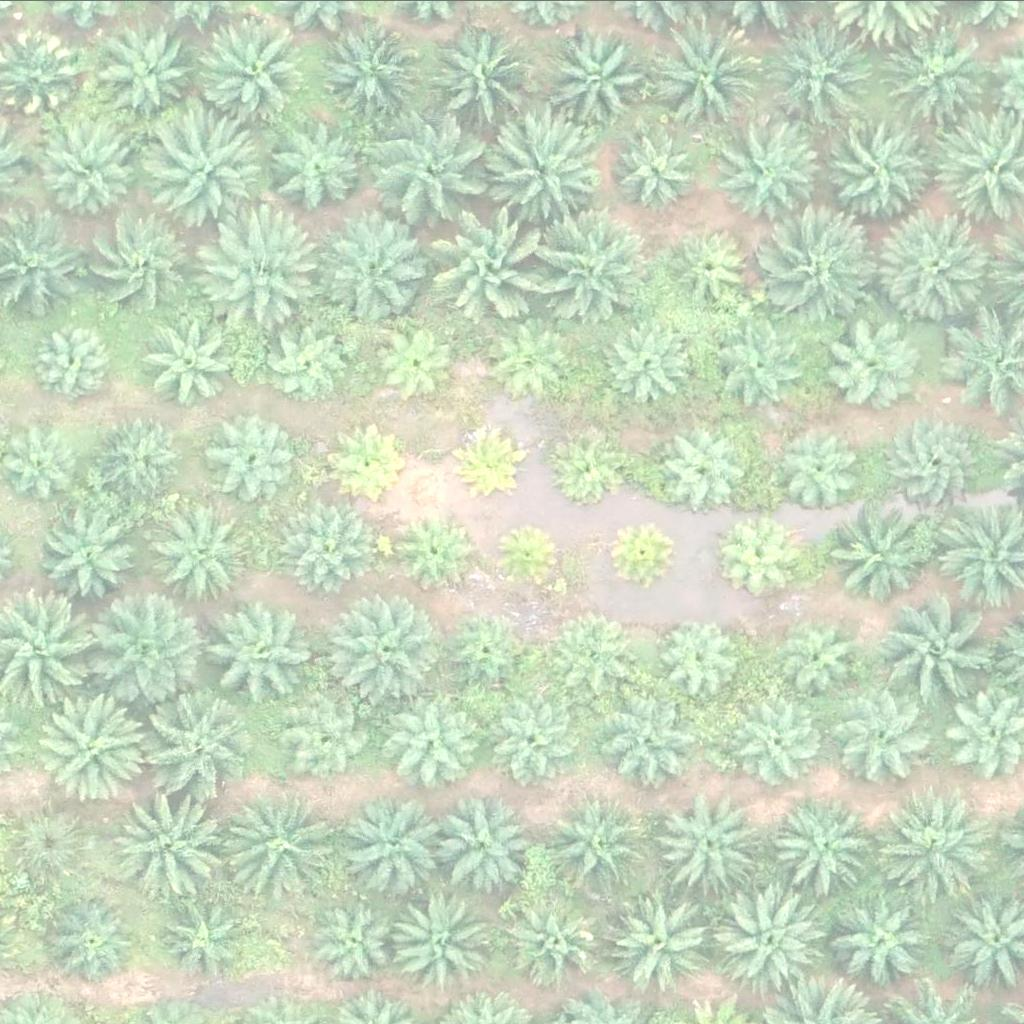Kelapa_Sawit: (432, 23, 546, 136), (117, 789, 231, 902), (651, 22, 764, 135), (763, 18, 876, 131), (818, 111, 931, 224), (879, 214, 992, 327), (776, 791, 889, 904), (885, 790, 998, 903), (378, 106, 491, 219), (536, 207, 649, 320), (94, 594, 207, 707), (204, 593, 317, 706), (327, 592, 440, 705), (140, 683, 253, 796), (36, 687, 149, 800), (231, 793, 344, 906), (155, 108, 269, 220), (440, 202, 554, 314), (719, 119, 832, 231), (770, 217, 883, 329), (881, 600, 994, 712), (720, 880, 833, 992), (201, 11, 314, 123), (483, 112, 596, 224), (314, 215, 427, 327), (199, 215, 312, 327), (86, 211, 199, 323), (884, 27, 985, 127), (830, 506, 931, 606), (835, 682, 936, 782), (655, 793, 756, 893), (835, 886, 936, 986), (548, 24, 649, 124), (99, 18, 200, 118), (260, 119, 361, 219), (144, 308, 245, 408), (148, 504, 249, 604), (347, 797, 448, 897), (430, 792, 531, 892), (603, 892, 704, 992), (547, 793, 648, 893), (599, 686, 700, 786), (395, 890, 496, 990), (820, 312, 920, 412), (888, 414, 988, 514), (326, 23, 426, 123), (42, 124, 142, 224), (43, 505, 143, 605), (30, 318, 119, 406), (669, 224, 757, 312), (662, 429, 750, 517), (734, 703, 822, 791), (442, 607, 530, 695), (560, 607, 648, 695), (614, 124, 702, 212), (10, 804, 98, 892), (156, 899, 244, 987), (370, 321, 458, 409), (493, 316, 581, 404), (398, 697, 486, 785), (490, 696, 578, 784), (49, 894, 137, 982), (306, 894, 394, 982), (719, 325, 808, 412), (778, 428, 866, 515), (658, 612, 746, 699), (782, 615, 870, 702), (98, 414, 186, 501), (268, 319, 356, 406), (602, 318, 690, 405), (278, 504, 366, 591), (209, 417, 297, 504), (287, 692, 375, 779), (512, 900, 600, 987), (548, 435, 624, 510), (728, 518, 804, 593), (601, 513, 677, 588), (452, 420, 528, 495), (394, 510, 469, 585), (491, 518, 566, 593), (330, 420, 405, 495)
